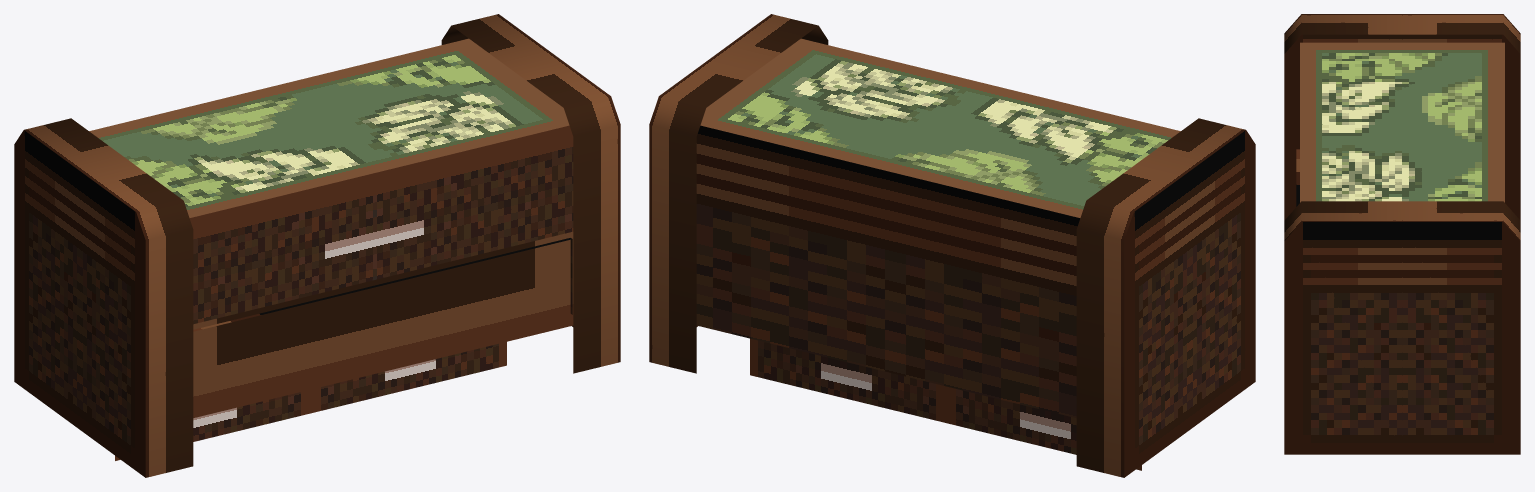
3 renders of one model, left to right at view 1: azimuth 30°, elevation 25°; view 2: azimuth 150°, elevation 25°; view 3: azimuth 270°, elevation 25°, orthographic. The views are drawn at different scales.
Visible parts, largest first — view 1: 3916kg3_gs18; view 2: 3916kg3_gs18; view 3: 3916kg3_gs18.
Boxes of the visible parts, left/top/right/bottom form: 3916kg3_gs18: left=14, top=14, right=620, bottom=477; 3916kg3_gs18: left=649, top=14, right=1255, bottom=477; 3916kg3_gs18: left=1284, top=14, right=1520, bottom=454.
Bounding box in the file's own units: 1.73 × 1.06 × 0.8281.
3 materials, 3 textured.
